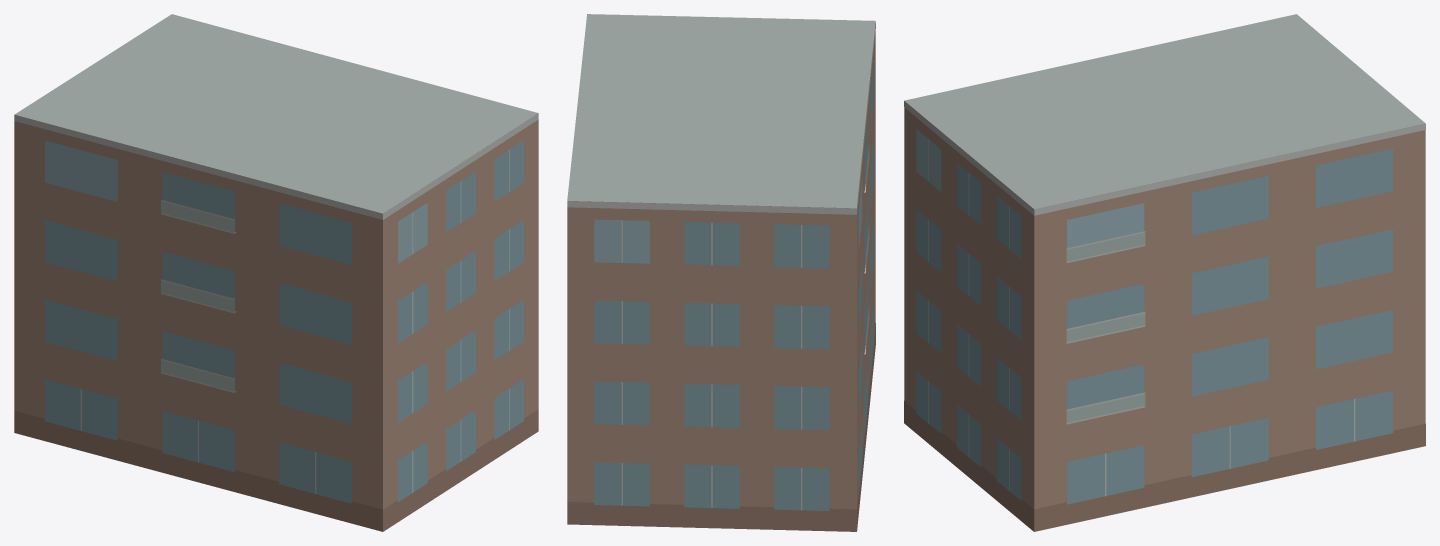
File: survey-upis-32816340.glb
3 renders of one model, left to right at view 1: azimuth 30°, elevation 25°; view 2: azimuth 150°, elevation 25°; view 3: azimuth 270°, elevation 25°, orthographic.
Visible parts, largest first — view 1: survey-upis-32816340.tmp; view 2: survey-upis-32816340.tmp; view 3: survey-upis-32816340.tmp.
Boxes of the visible parts, box(x1,y1,x2,y2) form: survey-upis-32816340.tmp: box(14, 14, 538, 531); survey-upis-32816340.tmp: box(567, 14, 875, 531); survey-upis-32816340.tmp: box(904, 14, 1425, 531).
Size of the model in its own units: 15.85 by 12.2 by 17.89.
